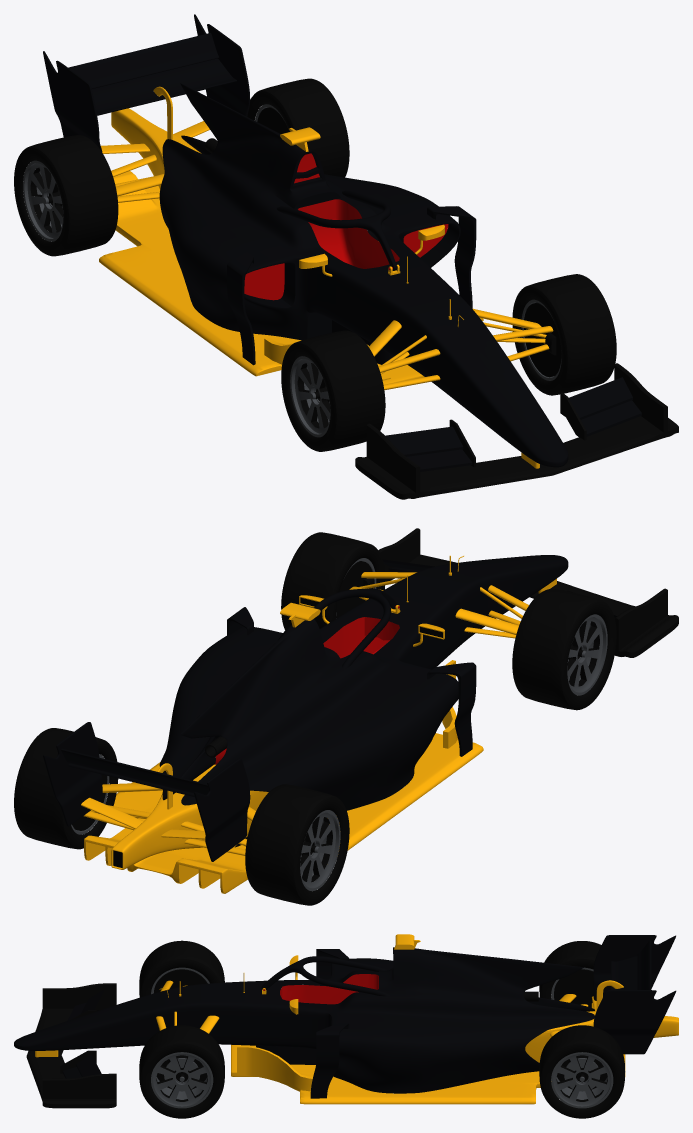
Rendered from Women_accessory_RedBull_px68_py15_pz-30_s0d3_5000.fcfa094a.glb.
The picture shows the model from 3 angles, top to bottom: view 1: azimuth 30°, elevation 25°; view 2: azimuth 150°, elevation 25°; view 3: azimuth 270°, elevation 25°; orthographic projection. The views are drawn at different scales.
Visible parts, largest first — view 1: _gltfNode_0, _gltfNode_3, _gltfNode_13, _gltfNode_16, _gltfNode_4, _gltfNode_2, _gltfNode_10, _gltfNode_1, _gltfNode_14, _gltfNode_17; view 2: _gltfNode_0, _gltfNode_3, _gltfNode_16, _gltfNode_13, _gltfNode_4, _gltfNode_17, _gltfNode_14, _gltfNode_2, _gltfNode_10; view 3: _gltfNode_0, _gltfNode_3, _gltfNode_13, _gltfNode_4, _gltfNode_16, _gltfNode_10, _gltfNode_14, _gltfNode_17, _gltfNode_2, _gltfNode_9.
Boxes of the visible parts, bbox=[...] form: _gltfNode_0: bbox=[43, 14, 641, 471]; _gltfNode_3: bbox=[99, 86, 553, 468]; _gltfNode_13: bbox=[281, 274, 616, 451]; _gltfNode_16: bbox=[14, 78, 349, 256]; _gltfNode_4: bbox=[355, 363, 678, 499]; _gltfNode_2: bbox=[298, 199, 399, 268]; _gltfNode_10: bbox=[47, 107, 561, 401]; _gltfNode_1: bbox=[244, 153, 448, 300]; _gltfNode_14: bbox=[290, 299, 561, 437]; _gltfNode_17: bbox=[23, 104, 284, 241]; _gltfNode_0: bbox=[43, 555, 616, 861]; _gltfNode_3: bbox=[81, 555, 556, 893]; _gltfNode_16: bbox=[14, 728, 349, 905]; _gltfNode_13: bbox=[281, 532, 616, 710]; _gltfNode_4: bbox=[378, 528, 678, 657]; _gltfNode_17: bbox=[71, 754, 340, 890]; _gltfNode_14: bbox=[336, 558, 607, 695]; _gltfNode_2: bbox=[323, 617, 399, 658]; _gltfNode_10: bbox=[72, 561, 583, 855]; _gltfNode_0: bbox=[14, 935, 676, 1098]; _gltfNode_3: bbox=[35, 934, 678, 1104]; _gltfNode_13: bbox=[139, 940, 224, 1118]; _gltfNode_4: bbox=[26, 983, 116, 1108]; _gltfNode_16: bbox=[539, 941, 625, 1118]; _gltfNode_10: bbox=[153, 969, 607, 1089]; _gltfNode_14: bbox=[151, 967, 213, 1108]; _gltfNode_17: bbox=[551, 967, 613, 1108]; _gltfNode_2: bbox=[280, 974, 378, 1004]; _gltfNode_9: bbox=[164, 1058, 600, 1091].
Size of the model in its own units: 170 by 99.24 by 463.
